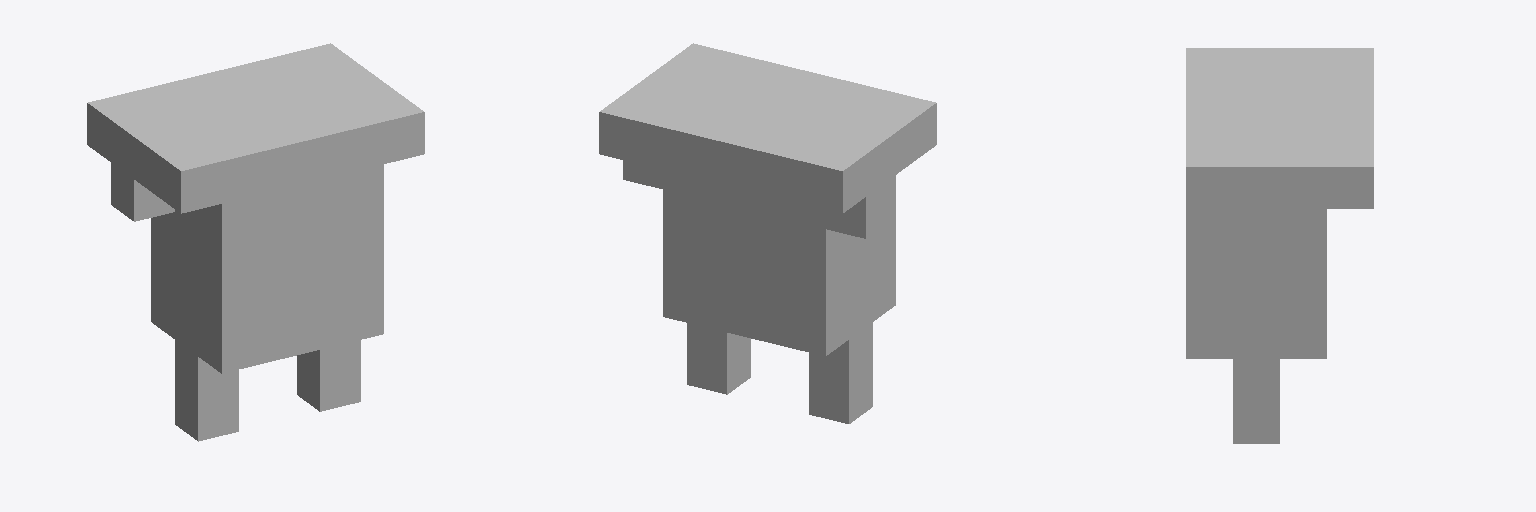
Rendered from body.obj.
3 renders of one model, left to right at view 1: azimuth 30°, elevation 25°; view 2: azimuth 150°, elevation 25°; view 3: azimuth 270°, elevation 25°, orthographic.
Parts seen in each view (by area): view 1: object 1; view 2: object 1; view 3: object 1.
Boxes of the visible parts, x1=… form: object 1: x1=87, y1=43, x2=424, y2=441; object 1: x1=599, y1=43, x2=936, y2=423; object 1: x1=1186, y1=48, x2=1373, y2=443.
Size of the model in its own units: 0.6 by 0.7 by 0.4.